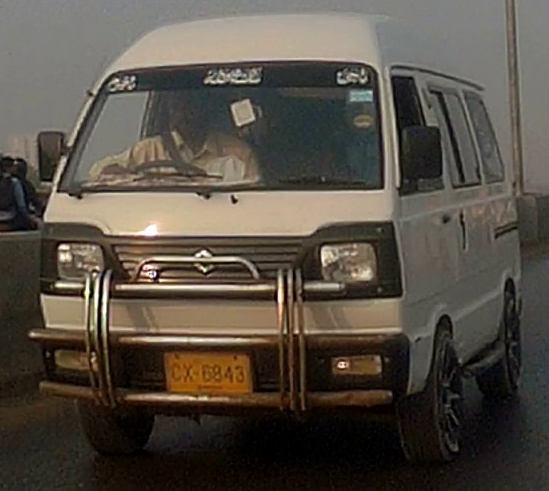van: (27, 13, 523, 465)
